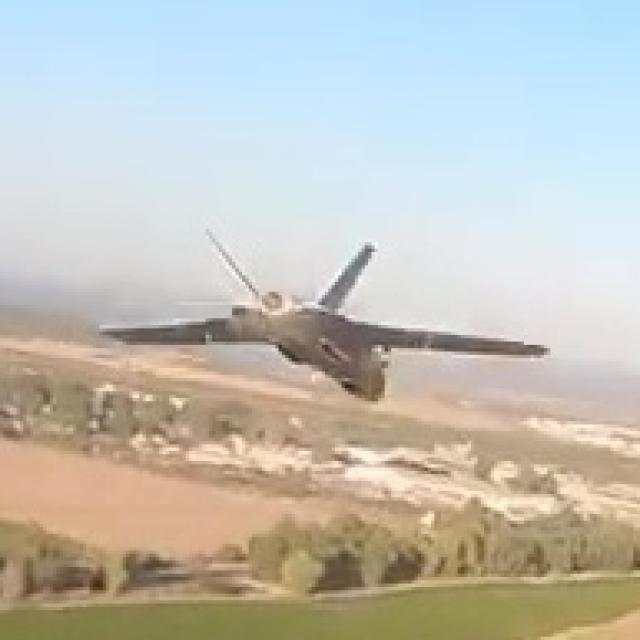iha: (103, 242, 544, 405)
